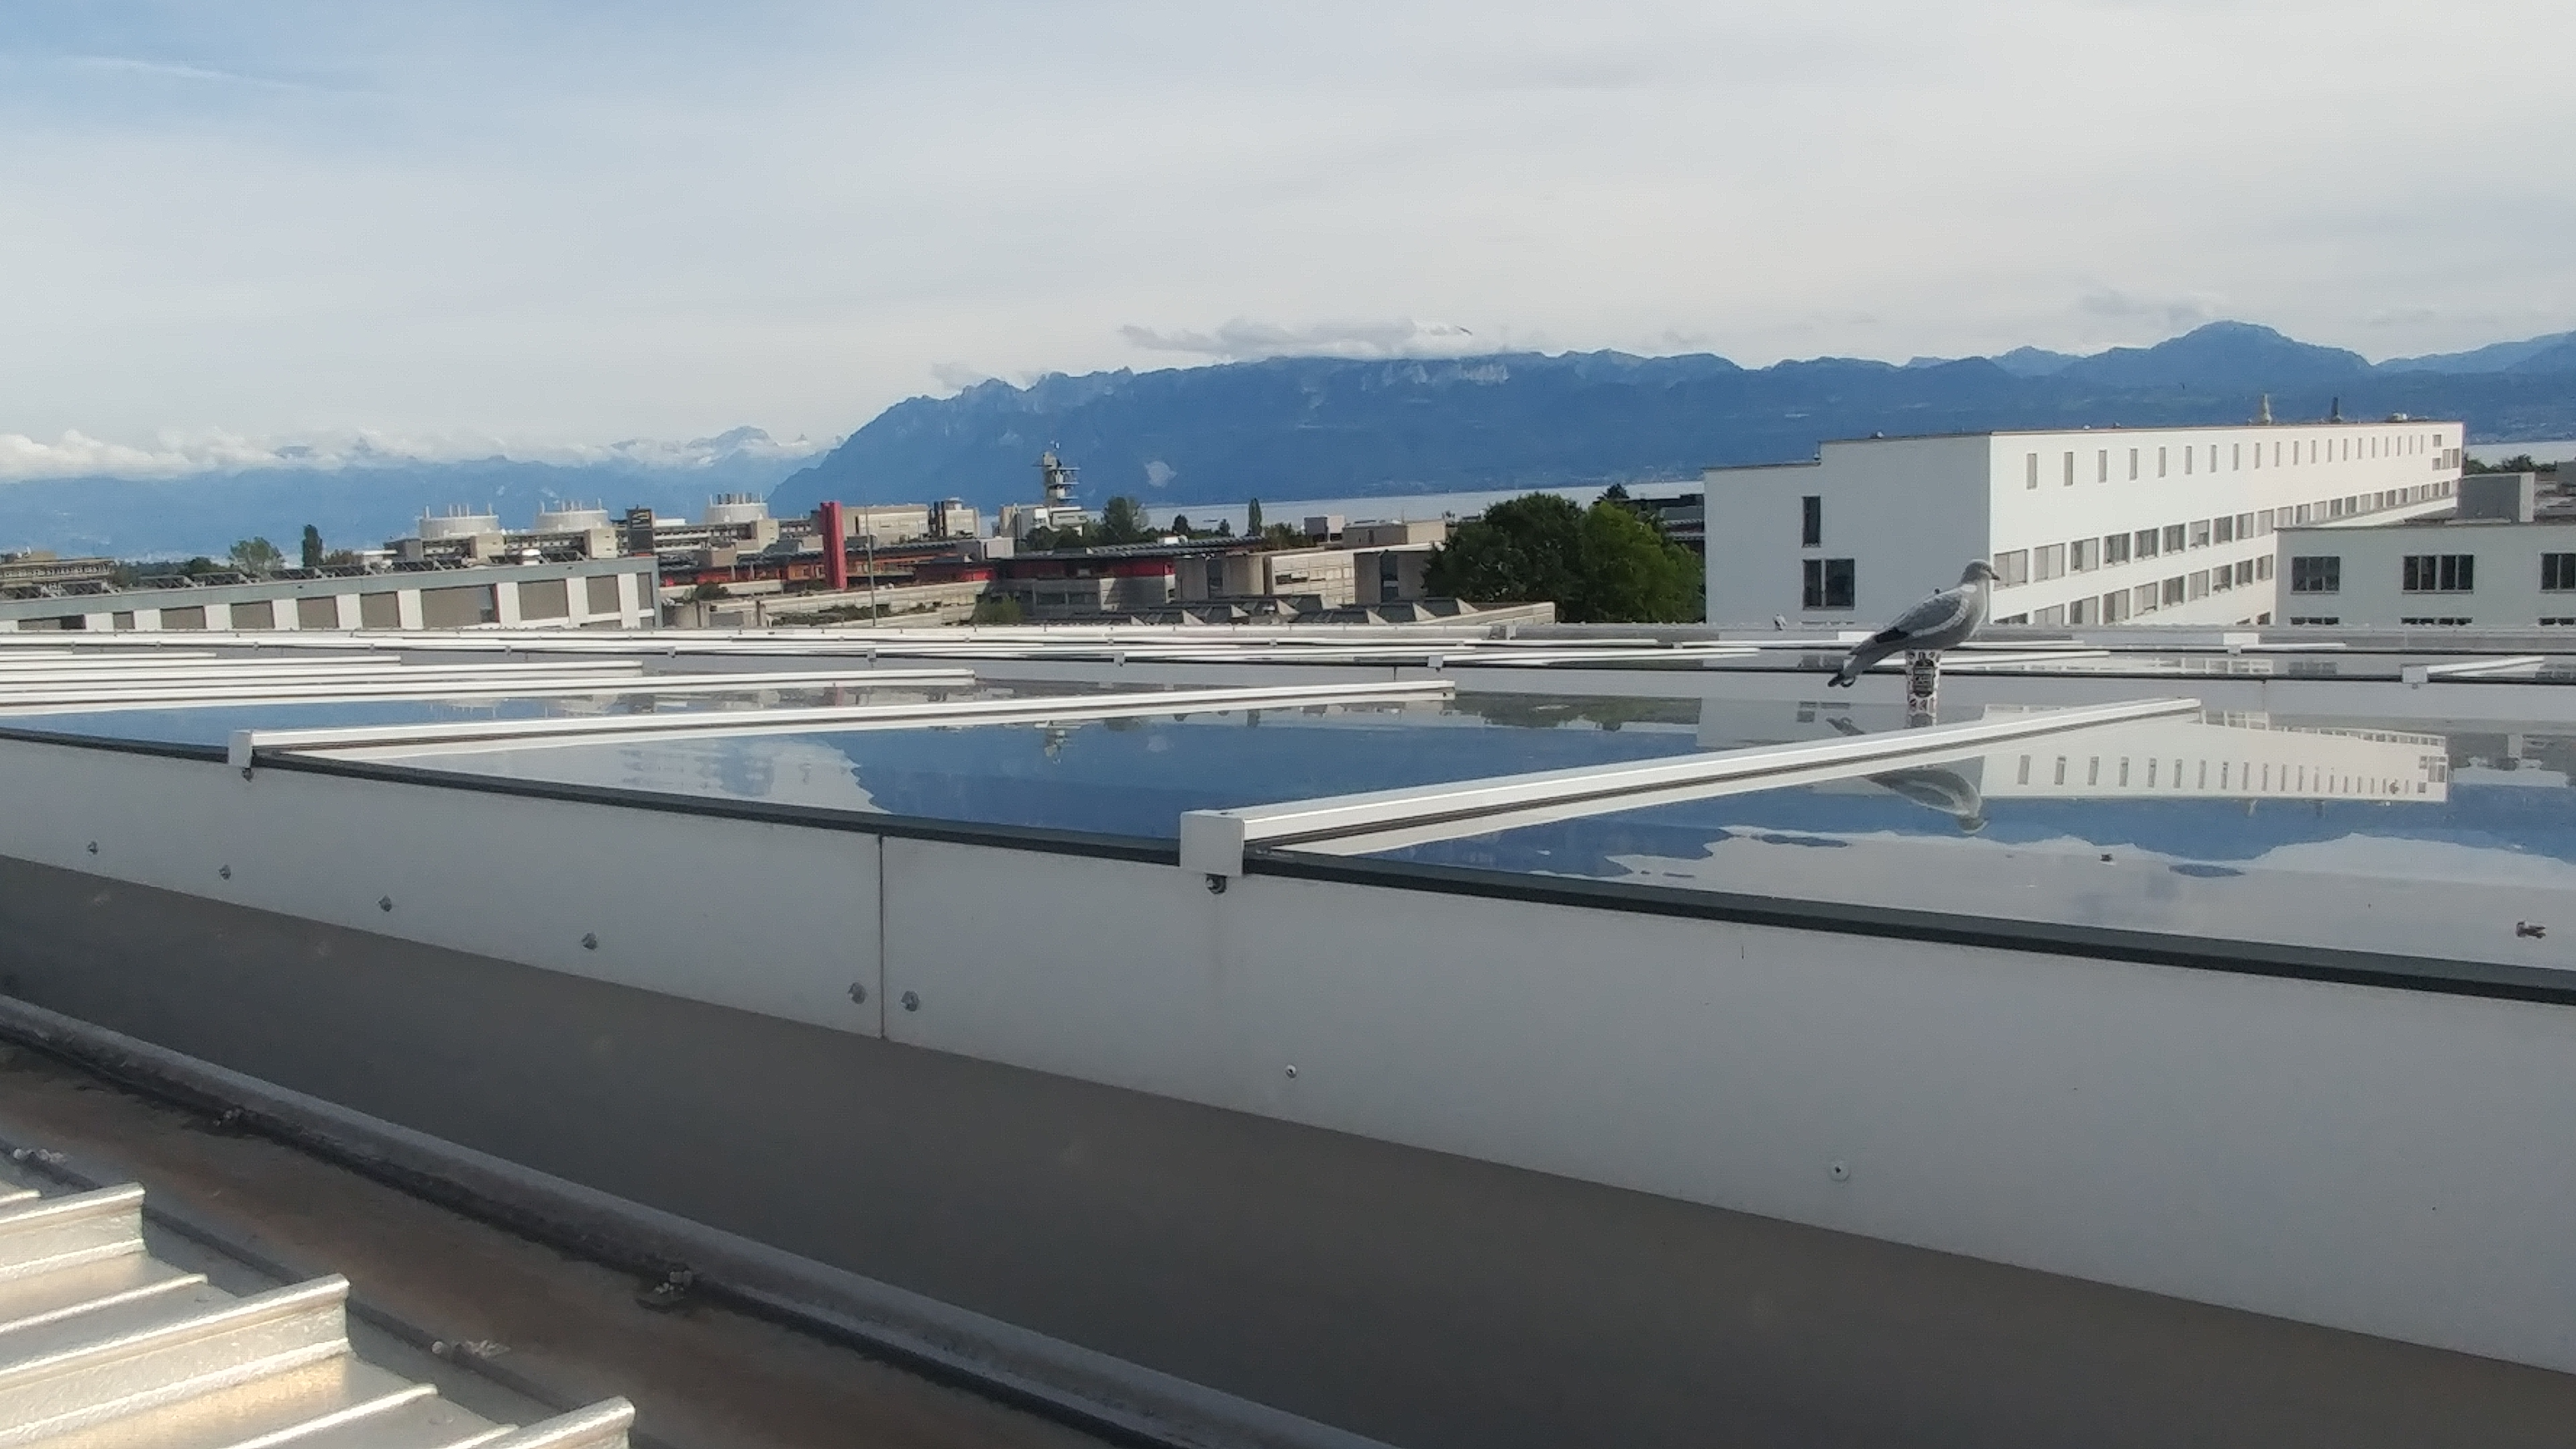Pigeon: (1838, 557, 2008, 686)
